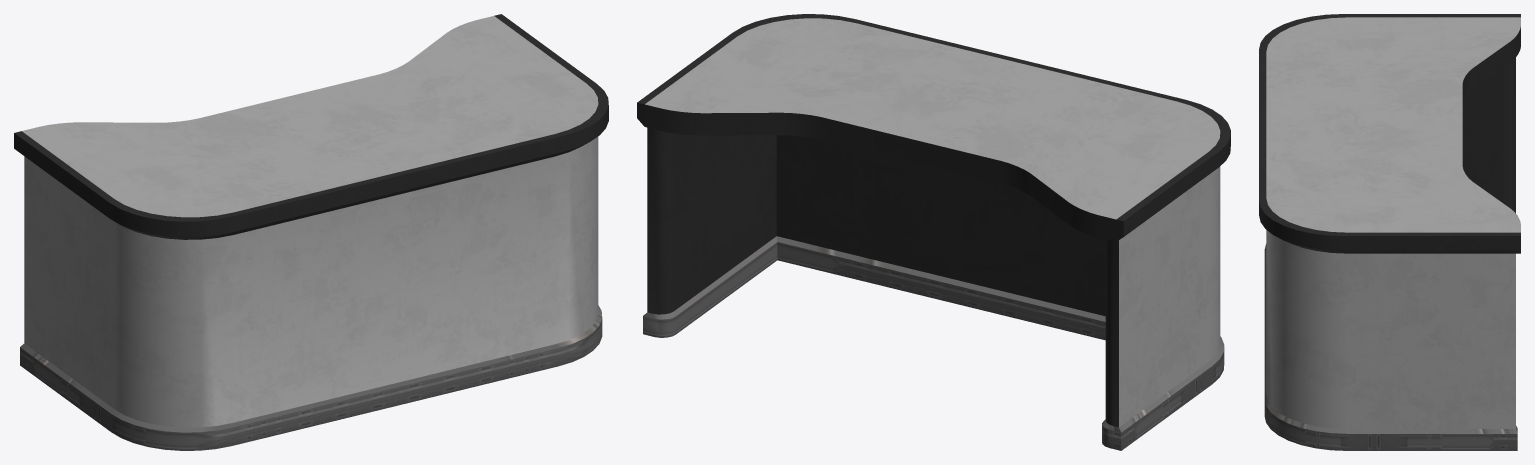
The picture shows the model from 3 angles, left to right: view 1: azimuth 30°, elevation 25°; view 2: azimuth 150°, elevation 25°; view 3: azimuth 270°, elevation 25°; orthographic projection. The views are drawn at different scales.
Visible parts, largest first — view 1: Prop_Desk_Small; view 2: Prop_Desk_Small; view 3: Prop_Desk_Small.
Part boxes in pixels (bbox=[...]): Prop_Desk_Small: bbox=[14, 14, 608, 450]; Prop_Desk_Small: bbox=[637, 14, 1230, 450]; Prop_Desk_Small: bbox=[1259, 14, 1520, 450].
Size of the model in its own units: 1.45 by 0.6582 by 0.7207.
3 materials, 3 textured.
